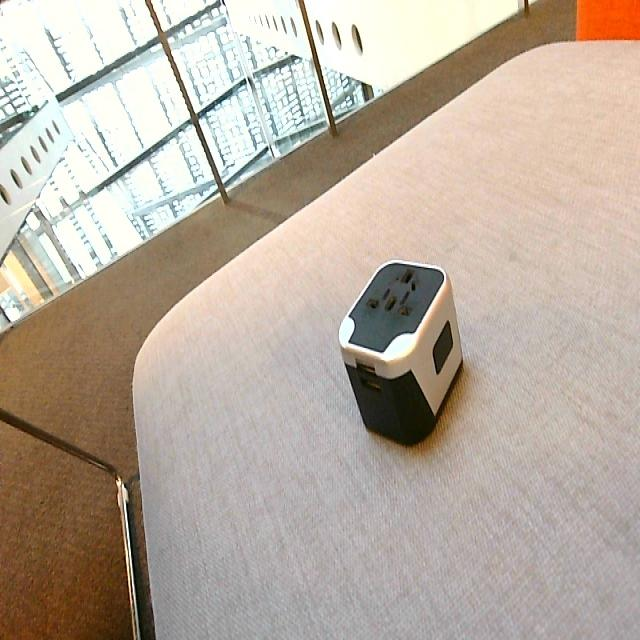adapter: (337, 257, 463, 447)
